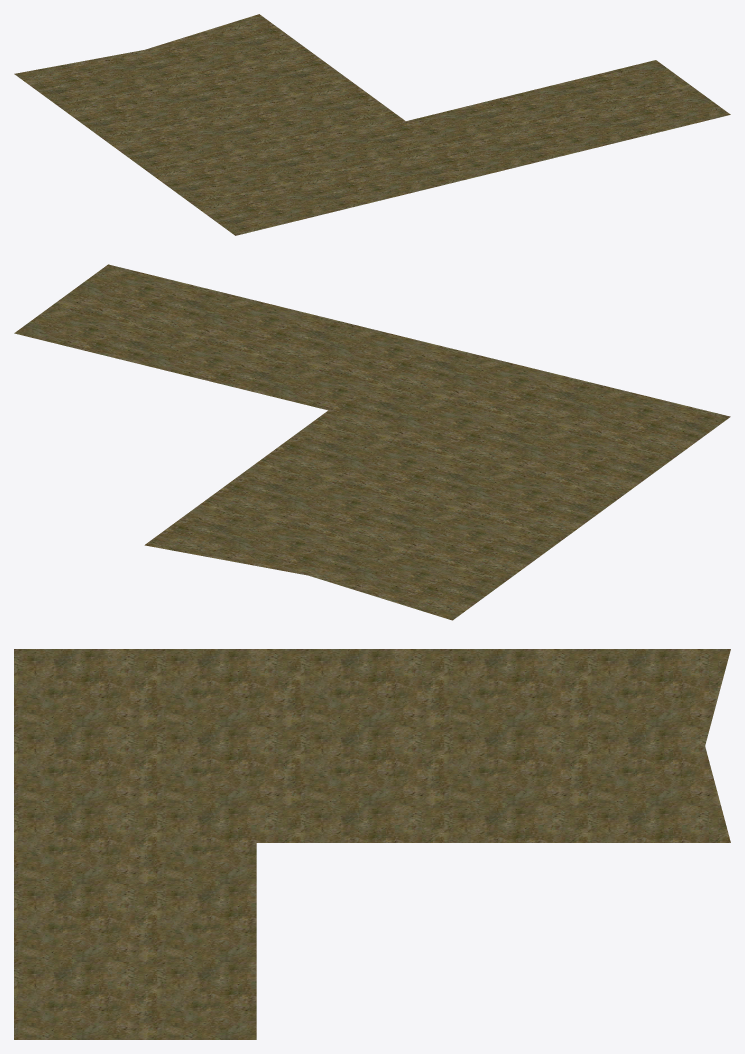
The model's file is CH09_SMAUG_PLAYSURFACE_LAIR100.fbx.
3 views of the same model, one above another, from view 1: azimuth 30°, elevation 25°; view 2: azimuth 150°, elevation 25°; view 3: azimuth 270°, elevation 25° (orthographic). The views are drawn at different scales.
Visible parts, largest first — view 1: CH09_SMAUG_PLAYSURFACE_LAIR100; view 2: CH09_SMAUG_PLAYSURFACE_LAIR100; view 3: CH09_SMAUG_PLAYSURFACE_LAIR100.
Part boxes in pixels (<box>): CH09_SMAUG_PLAYSURFACE_LAIR100: <box>14,14,730,235</box>; CH09_SMAUG_PLAYSURFACE_LAIR100: <box>14,264,730,620</box>; CH09_SMAUG_PLAYSURFACE_LAIR100: <box>14,649,730,1039</box>.
Bounding box in the file's own units: 318296 × 218 × 246450.
1 material, 1 textured.
